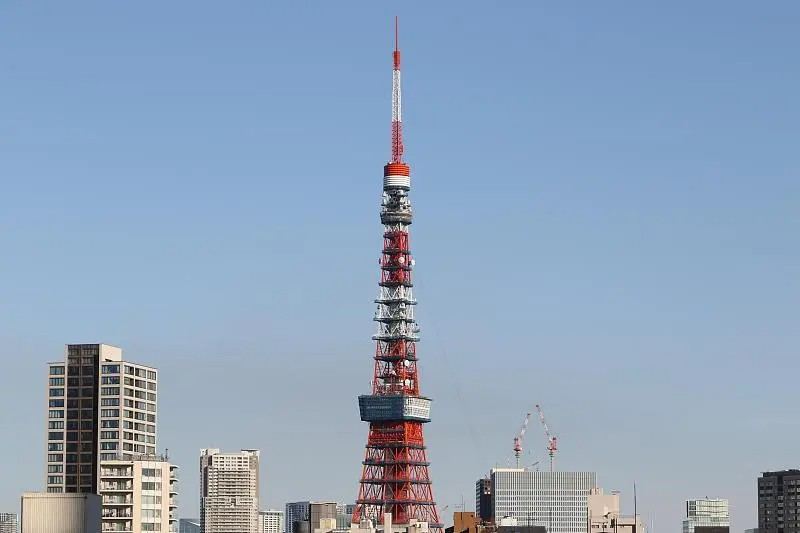Tokyo: (350, 11, 444, 532)
